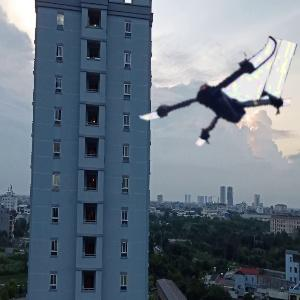drone: (142, 24, 291, 173)
